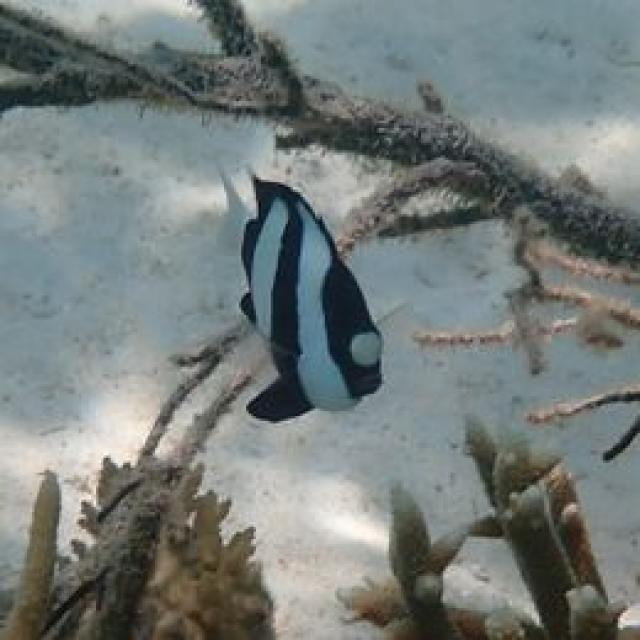Three_striped DasmselFish: (217, 160, 386, 433)
